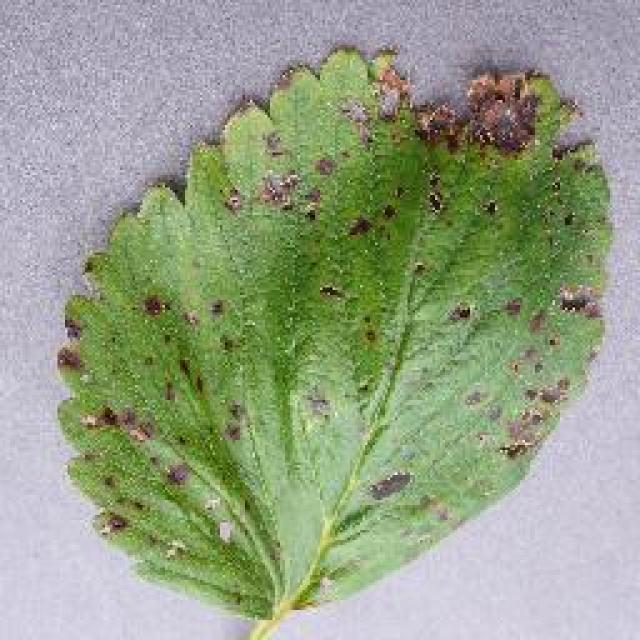Strawberry leaf scorch: (195, 40, 600, 505)
